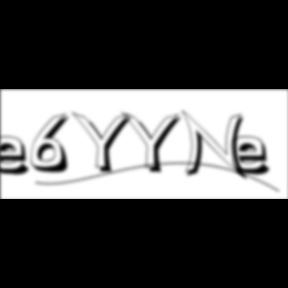6: (32, 112, 76, 176)
N: (182, 109, 252, 183)
Y: (120, 110, 188, 176), (72, 110, 138, 176)
e: (232, 135, 278, 178), (1, 135, 37, 178)
